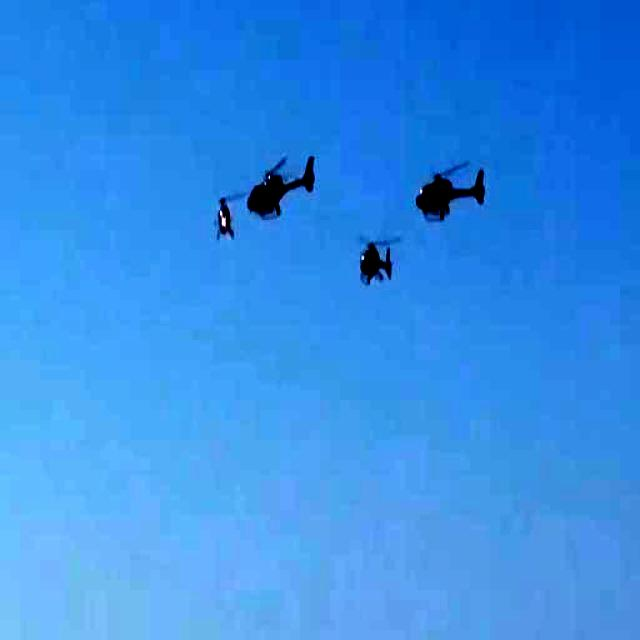drone: (398, 146, 508, 228), (244, 134, 336, 218), (348, 235, 399, 308)
